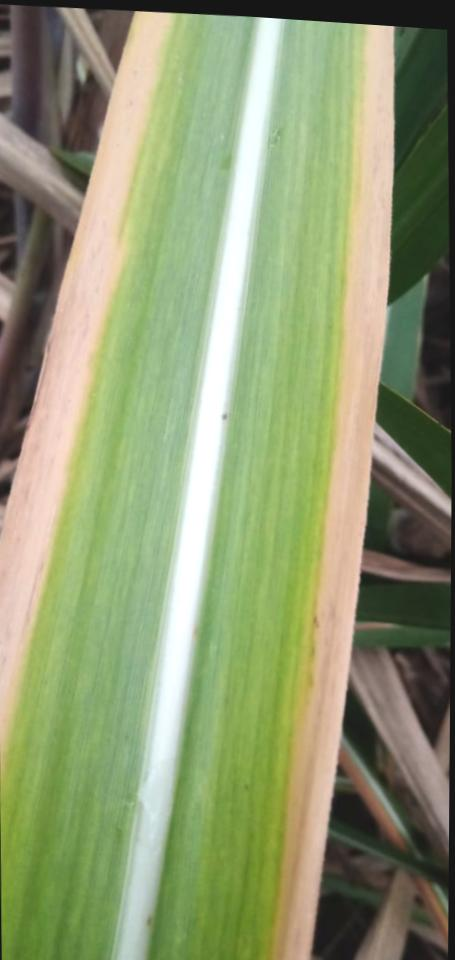Rust: (219, 411, 229, 421)
Yellow: (0, 10, 177, 756), (274, 24, 391, 960)
